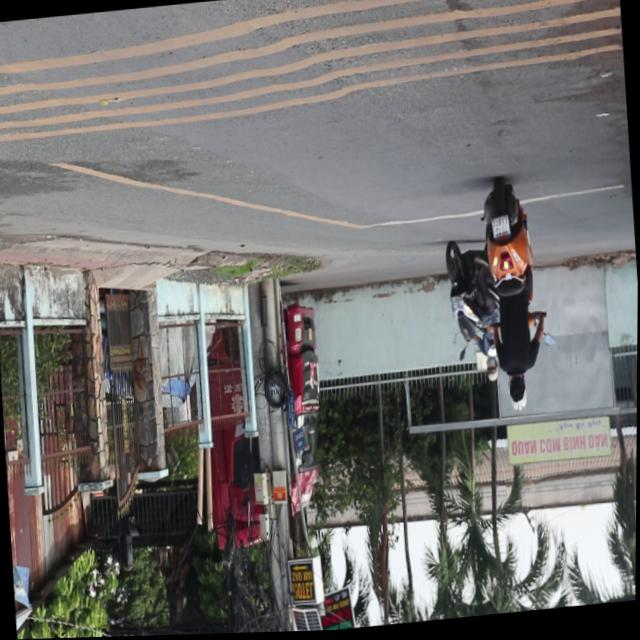helmet: (506, 376, 528, 414)
licenseplate: (476, 180, 549, 417)
nohelmet: (491, 218, 510, 241)
